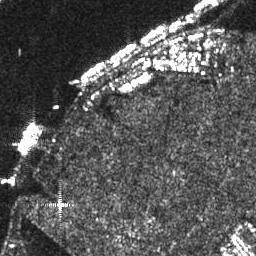ship: (18, 118, 37, 150), (107, 41, 136, 60), (78, 60, 104, 79), (139, 25, 165, 41), (67, 78, 80, 84)
